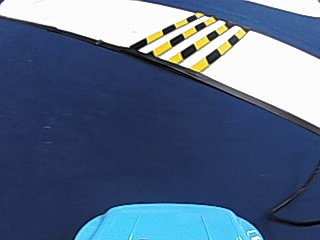bump: (132, 13, 246, 72)
